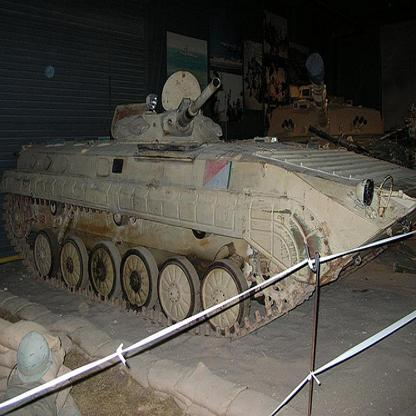Tank: (1, 70, 416, 333)
